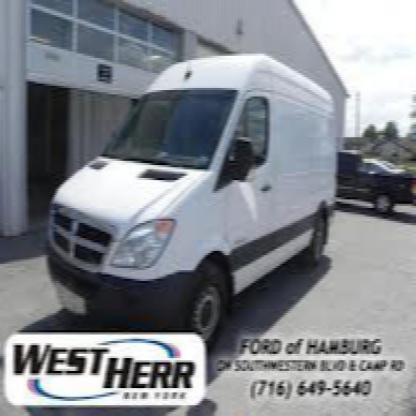Vehicle: (50, 58, 336, 358)
